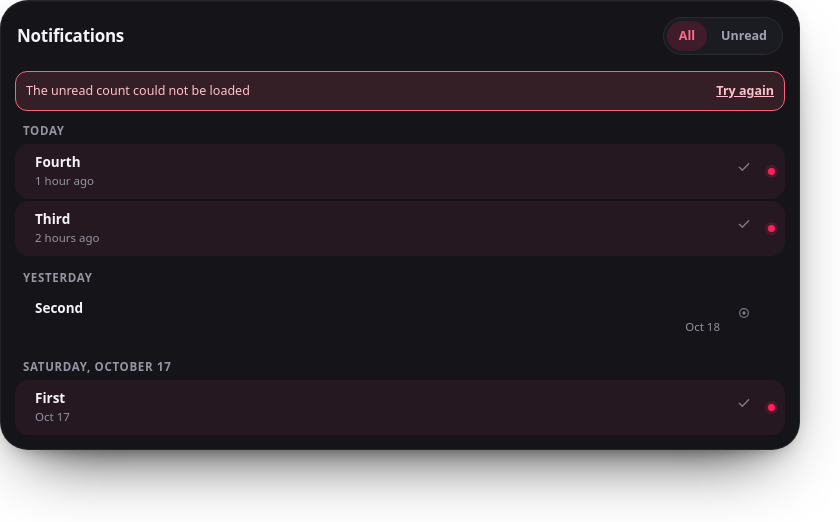
it: Inbox filters and paging › explains a counter failure without hiding the loaded rows and retries it
Expected: the text "Fourth" is shown, top-left (35, 153), bottom-right (80, 171)
Expected: the message shows "The unread count could not be loaded", top-left (26, 82), bottom-right (250, 99)
Click the button "Try again" at (745, 91), box top-left (716, 80), bottom-right (774, 102)
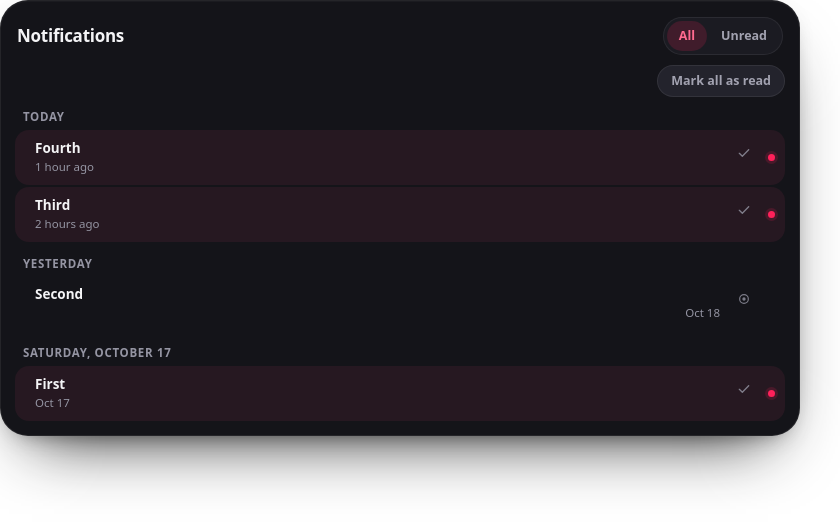
Expected: the text "Fourth" is shown, top-left (35, 139), bottom-right (80, 157)
Expected: the text "The unread count could not be loaded" is gone
